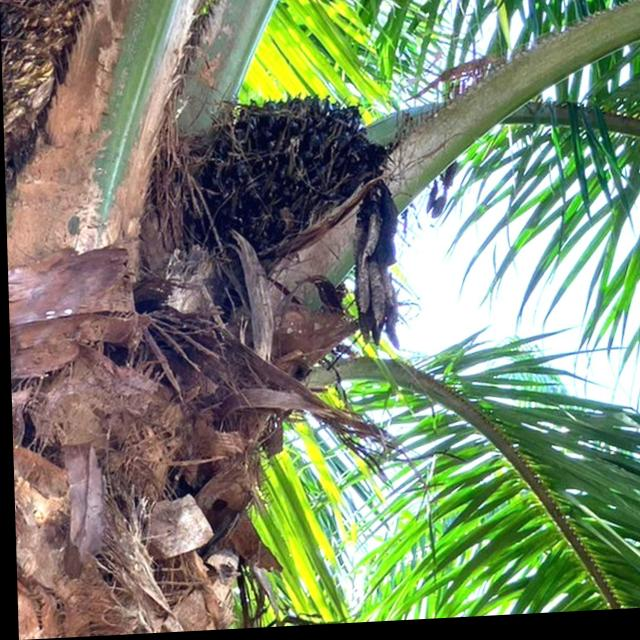unripe: (170, 76, 395, 303)
